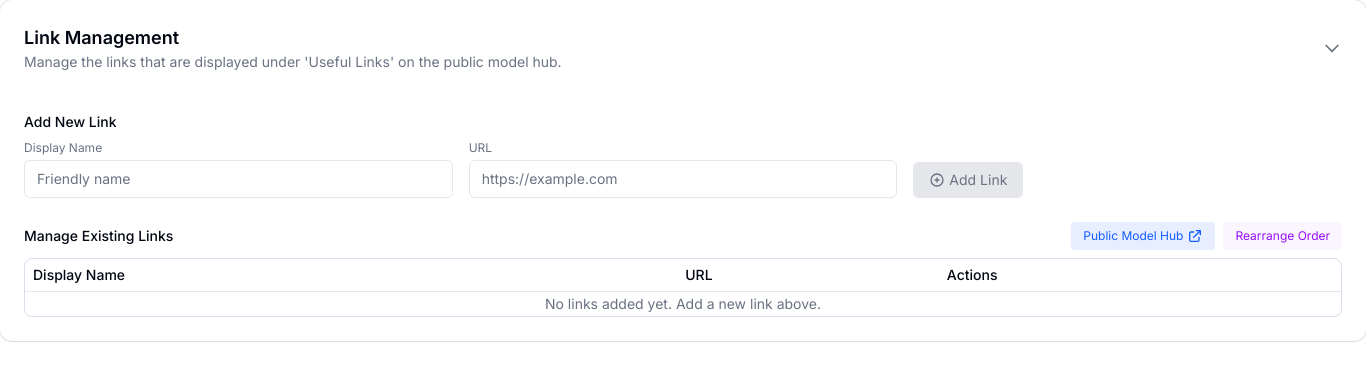
it: UsefulLinksManagement › should add a new link when fields are valid
Type "Docs" into the field with placeholder "Friendly name" at (238, 179), box [24, 160, 453, 198]
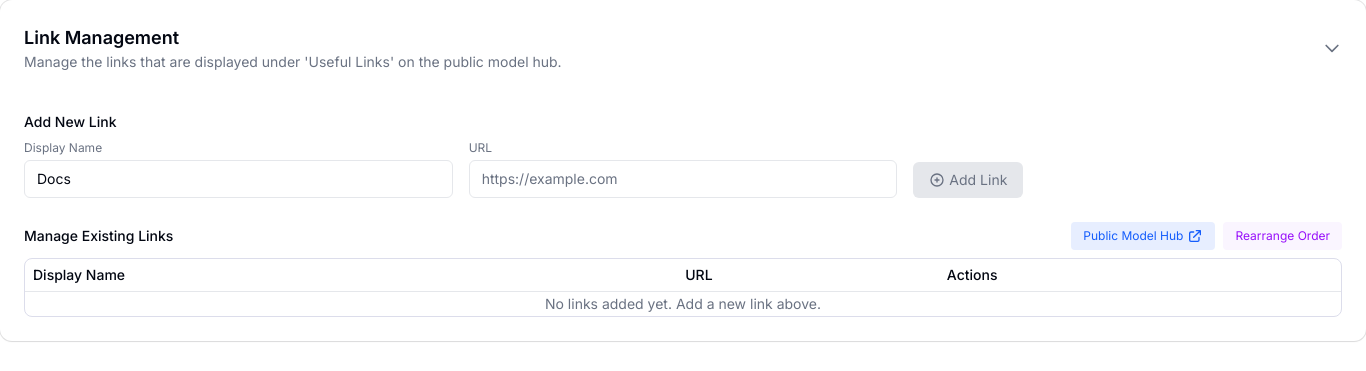
Type "https://docs.example.com" into the field with placeholder "https://example.com" at (683, 179), box [469, 160, 897, 198]
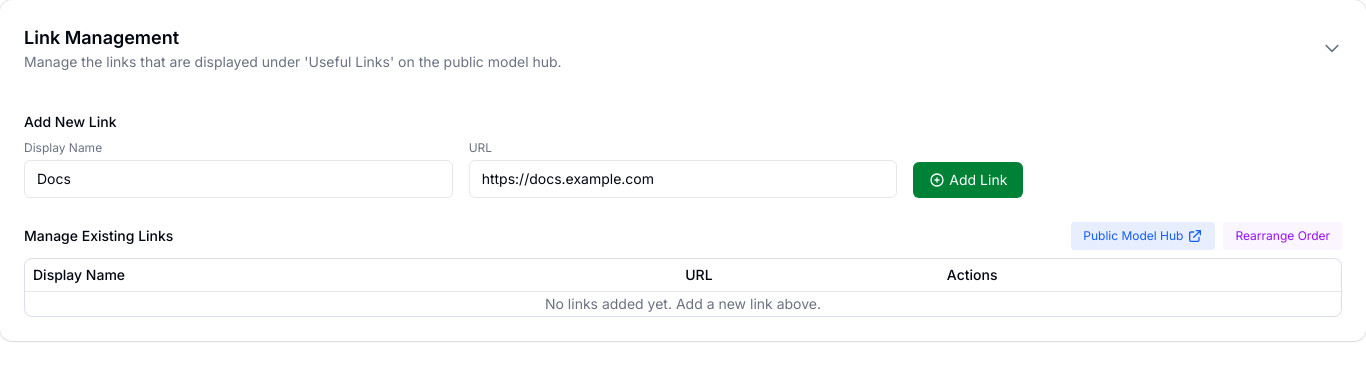
Click the button "Add Link" at (968, 180), box [913, 162, 1023, 198]
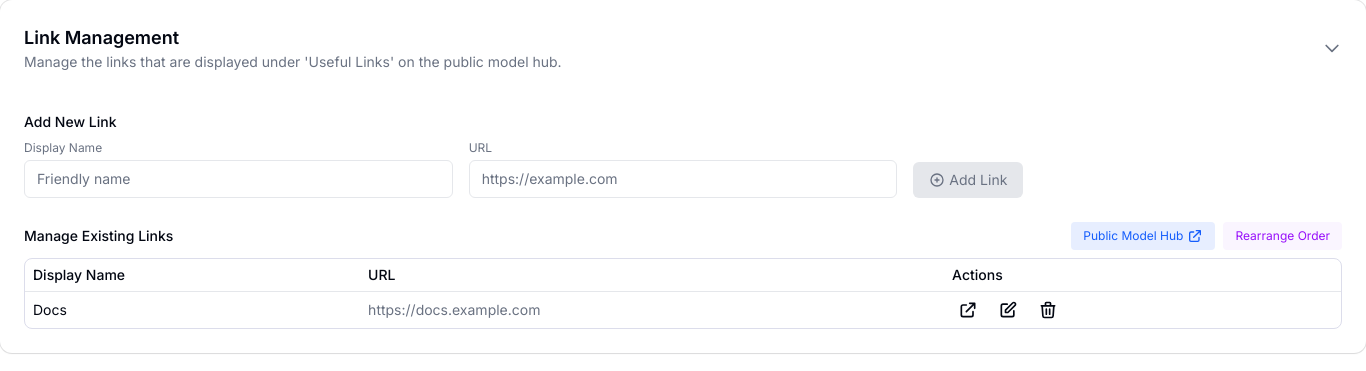
Now the text "Docs" is shown, box [25, 291, 360, 328]
Now the text "https://docs.example.com" is shown, box [360, 291, 944, 328]
